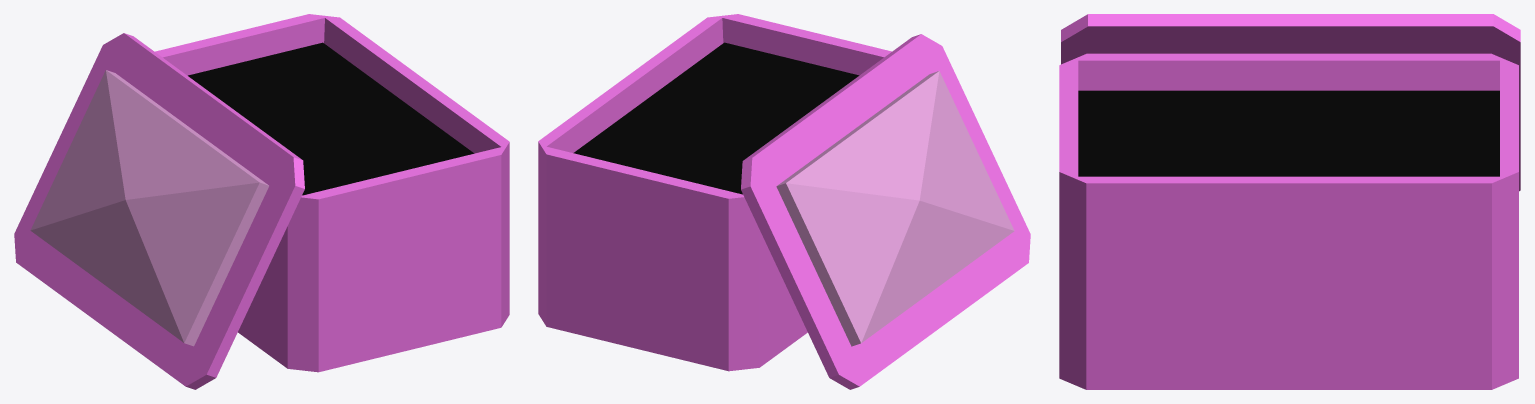
Rendered from Caixa_com_Presilhas_e_grampos_de_cabelo.fbx.
The picture shows the model from 3 angles, left to right: view 1: azimuth 30°, elevation 25°; view 2: azimuth 150°, elevation 25°; view 3: azimuth 270°, elevation 25°; orthographic projection. The views are drawn at different scales.
Parts seen in each view (by area): view 1: Tampa, Caixa, Presilhas_e_grampos_texture; view 2: Tampa, Caixa, Presilhas_e_grampos_texture; view 3: Caixa, Presilhas_e_grampos_texture, Tampa.
Part boxes in pixels (box(x1,y1,x2,y2)): Tampa: box(14, 33, 304, 389); Caixa: box(155, 14, 509, 372); Presilhas_e_grampos_texture: box(188, 42, 474, 195); Tampa: box(741, 34, 1030, 389); Caixa: box(538, 14, 891, 371); Presilhas_e_grampos_texture: box(573, 42, 859, 194); Caixa: box(1059, 53, 1518, 389); Presilhas_e_grampos_texture: box(1078, 90, 1499, 176); Tampa: box(1061, 14, 1520, 191).
Bounding box in the file's own units: 291 × 180 × 301.
